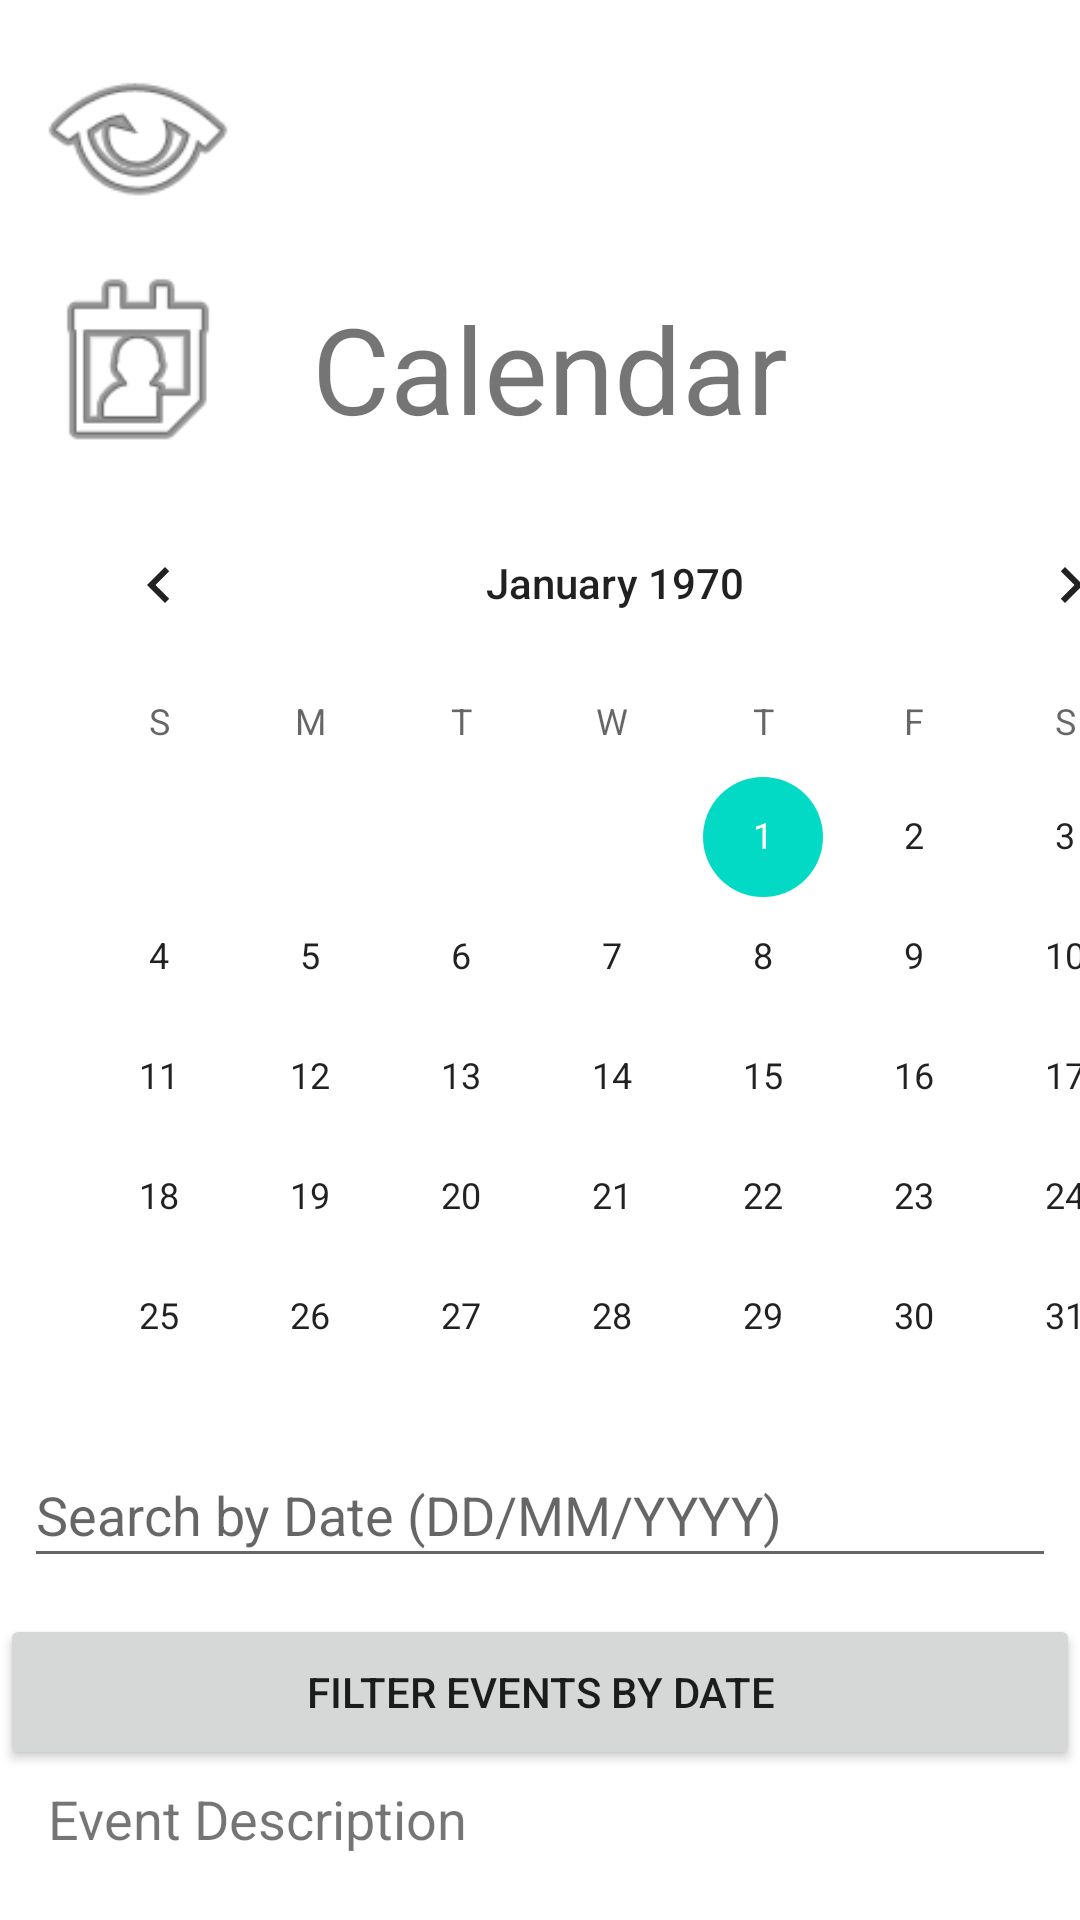

Named icons in this screenshot (1080px×1920px) and their bounding boxes, (x1,y1,x2,y2):
view: (49,83,227,195)
